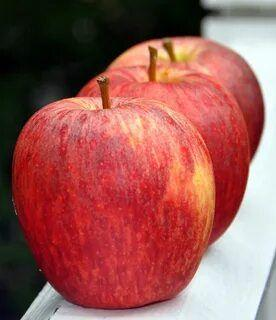Apple: (10, 98, 214, 310)
